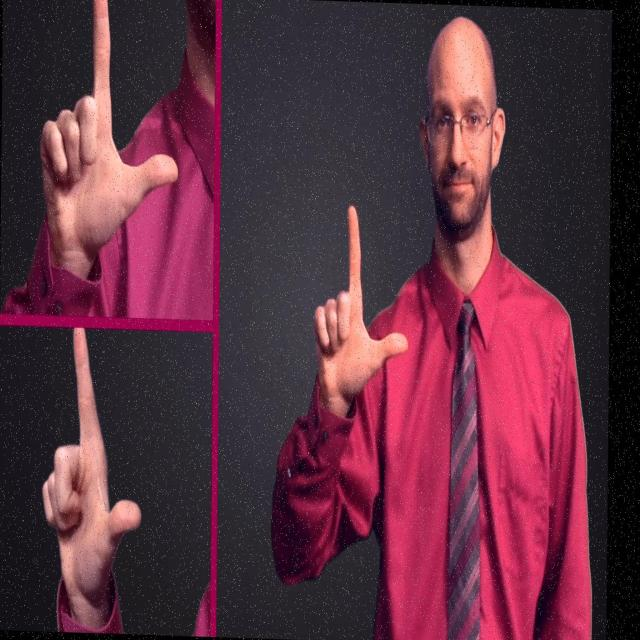L: (37, 0, 182, 261), (40, 325, 145, 601), (311, 201, 412, 405)
